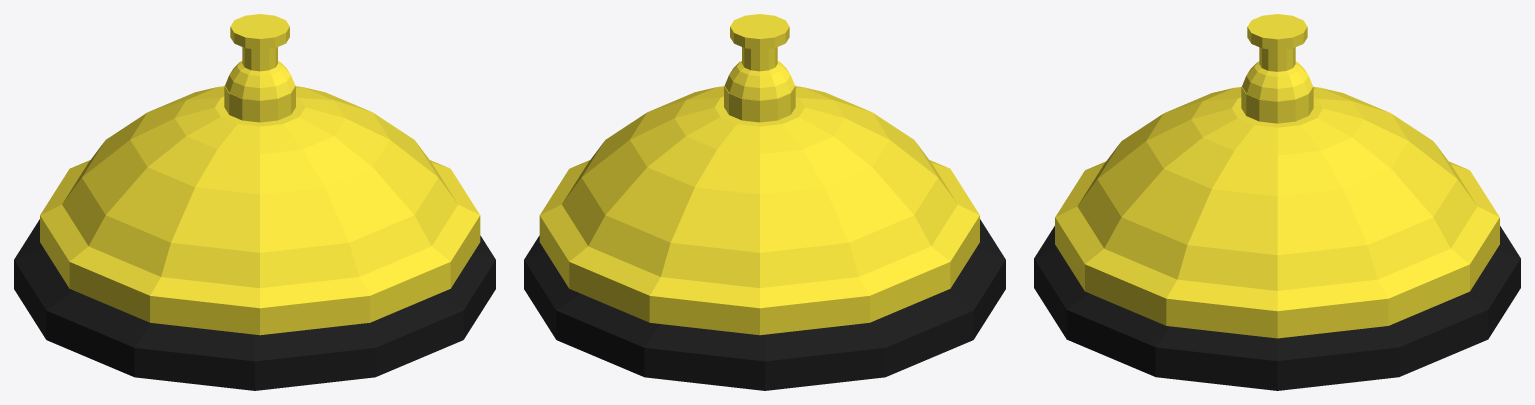
File: Desk Bell.glb
The picture shows the model from 3 angles, left to right: view 1: azimuth 30°, elevation 25°; view 2: azimuth 150°, elevation 25°; view 3: azimuth 270°, elevation 25°; orthographic projection.
Visible parts, largest first — view 1: Node; view 2: Node; view 3: Node.
Boxes of the visible parts, x1,y1,x2,y2 form: Node: (14,14,495,390); Node: (524,14,1005,390); Node: (1034,14,1520,390).
Size of the model in its own units: 0.81 by 0.4847 by 0.81.
